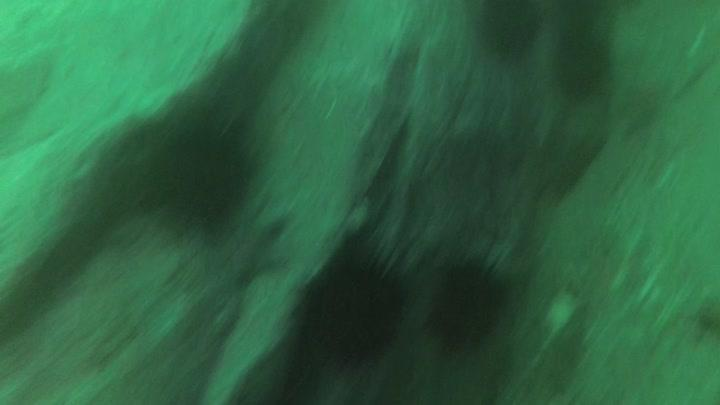urchin: (308, 245, 420, 361), (425, 254, 512, 349), (552, 25, 618, 96), (478, 2, 543, 63)
